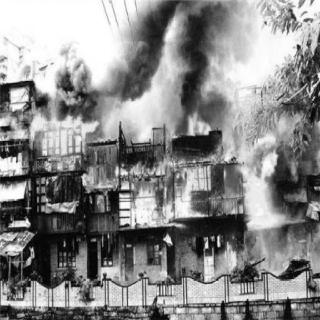Fire: (127, 123, 286, 223), (35, 113, 117, 185)
Smoke: (107, 1, 231, 106), (49, 36, 90, 100)
